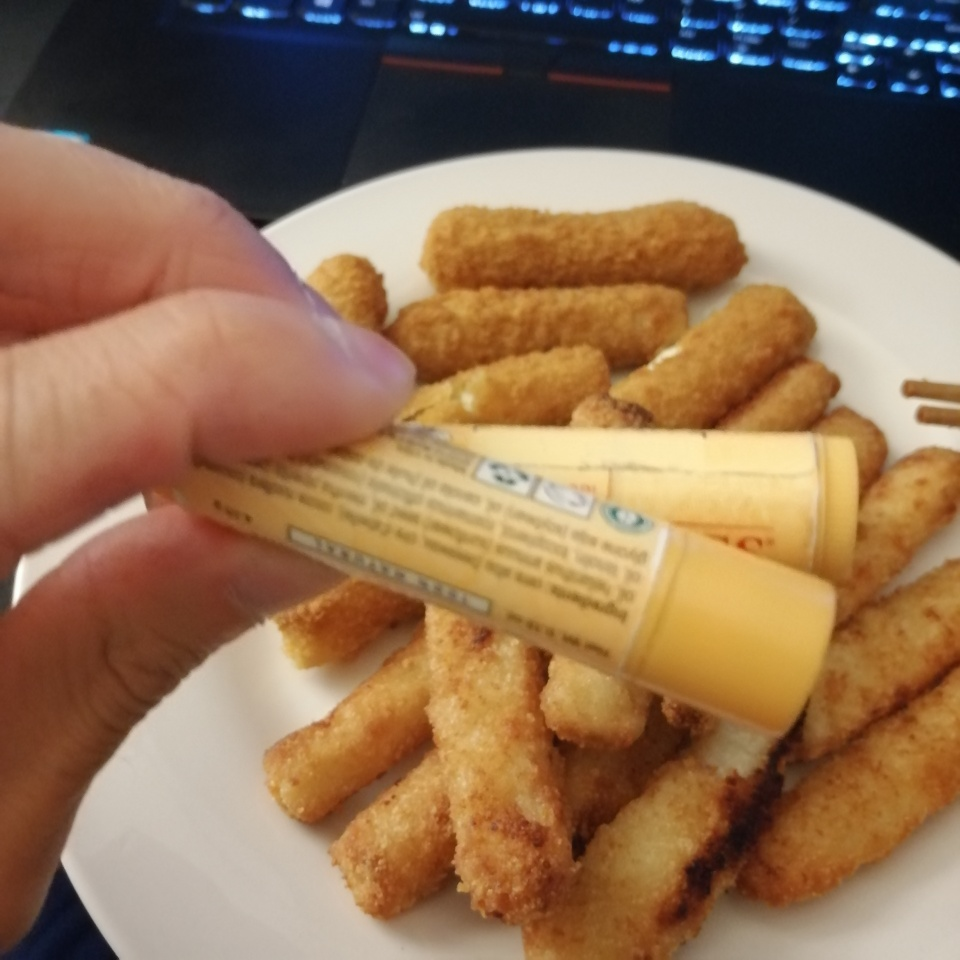chapstick: (157, 424, 838, 739), (396, 422, 857, 577)
